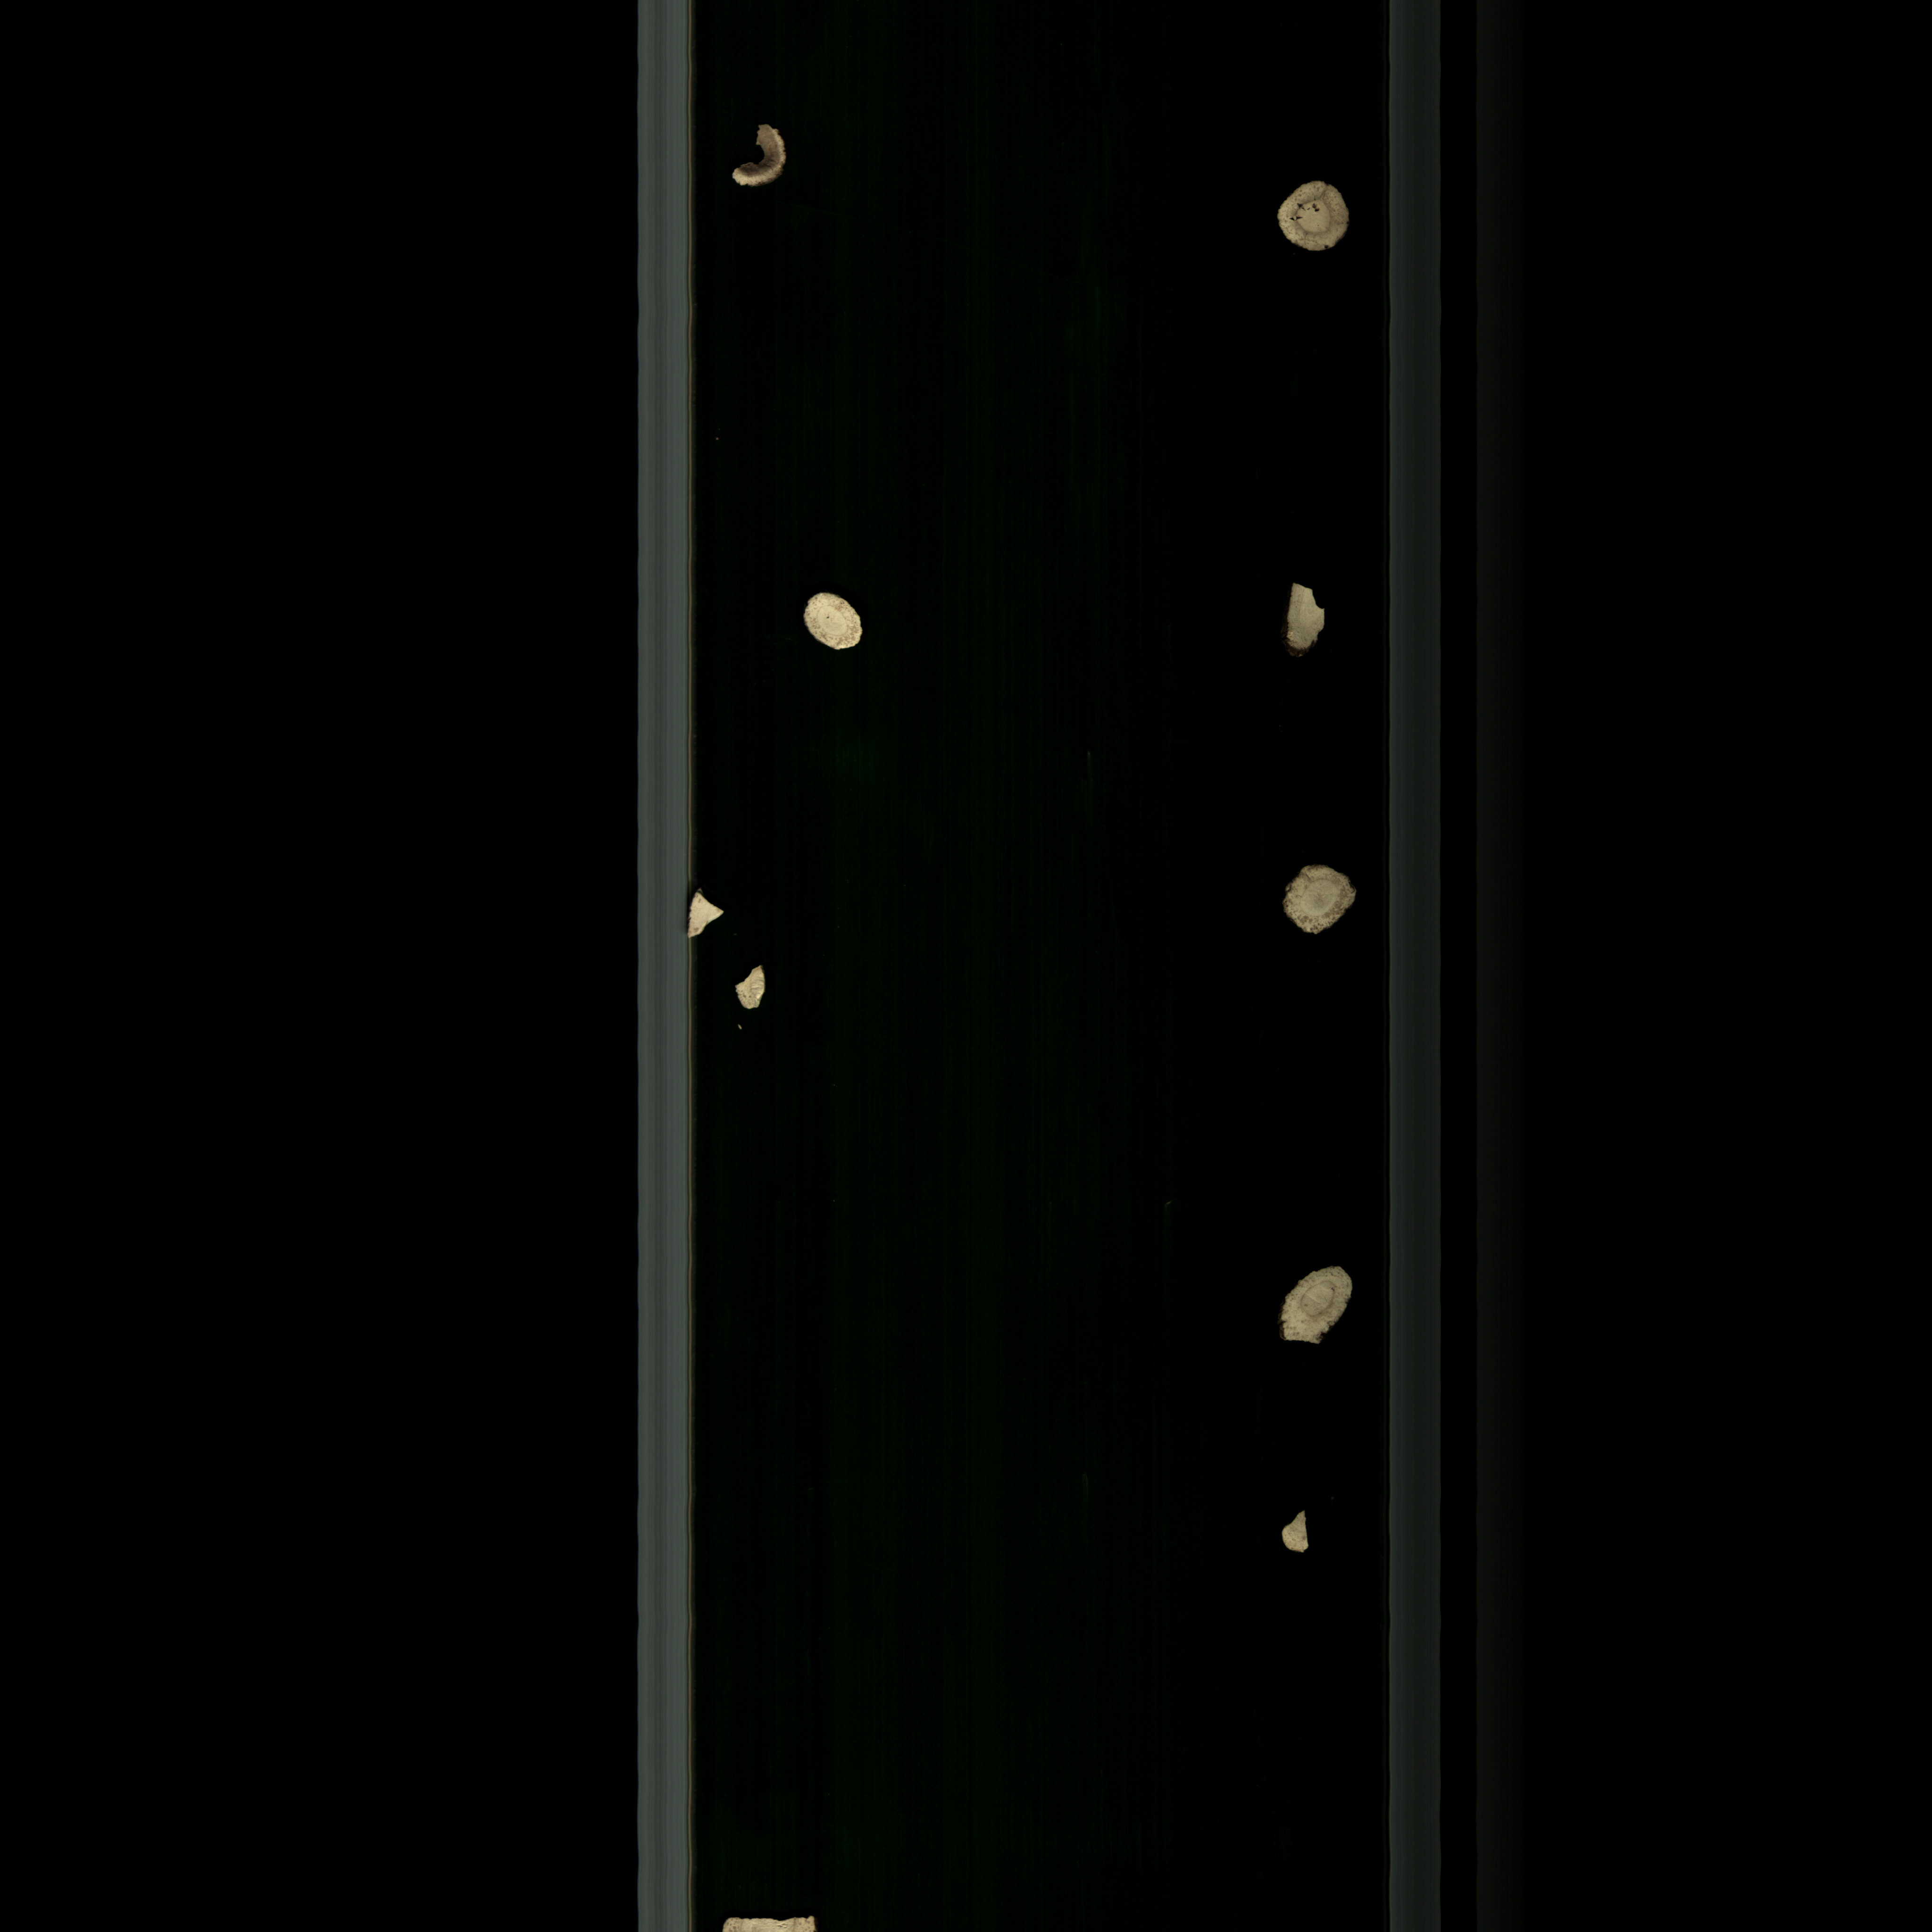debris: (1284, 571, 1334, 671)
distortion: (1272, 849, 1366, 950), (1274, 1261, 1361, 1355)
dreg: (683, 881, 729, 947), (1269, 1504, 1318, 1562), (736, 962, 773, 1021)
hole: (1267, 172, 1359, 269)
moldy: (718, 113, 793, 202)
